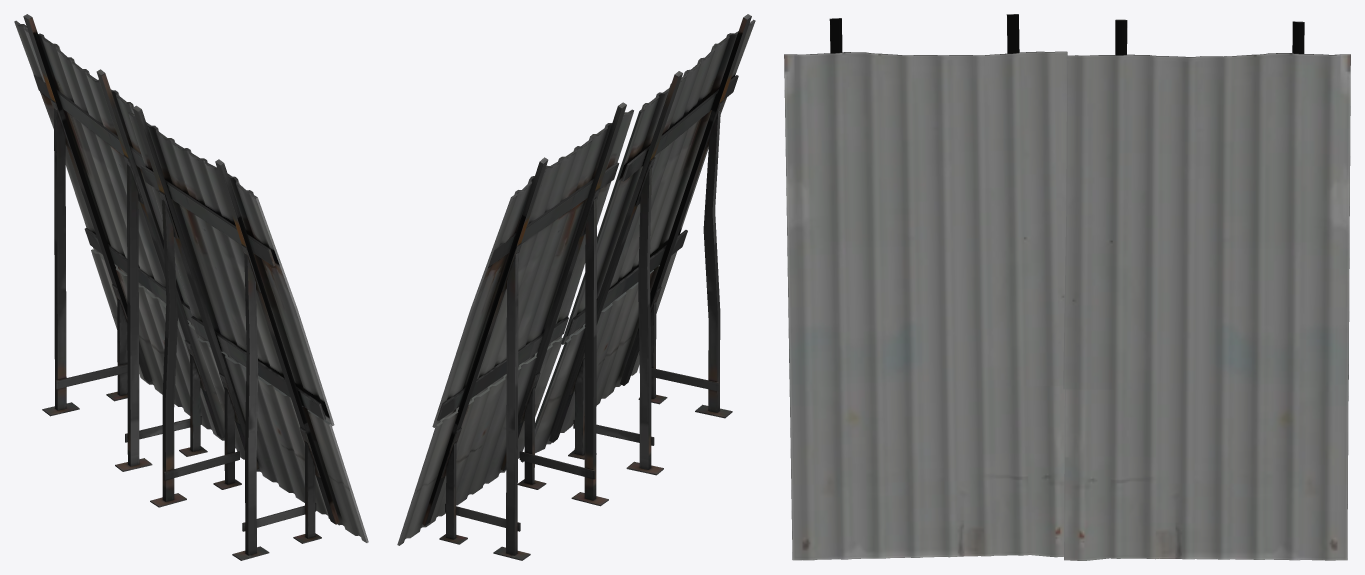
3 renders of one model, left to right at view 1: azimuth 30°, elevation 25°; view 2: azimuth 150°, elevation 25°; view 3: azimuth 270°, elevation 25°, orthographic. The views are drawn at different scales.
Parts seen in each view (by area): view 1: body0_model0_lod0_mesh0; view 2: body0_model0_lod0_mesh0; view 3: body0_model0_lod0_mesh0.
Boxes of the visible parts, bbox=[...] form: body0_model0_lod0_mesh0: bbox=[14, 14, 368, 560]; body0_model0_lod0_mesh0: bbox=[397, 14, 755, 560]; body0_model0_lod0_mesh0: bbox=[784, 14, 1350, 560].
Size of the model in its own units: 65.2 by 176 by 192.
Materials: 1 (1 with a texture image).
